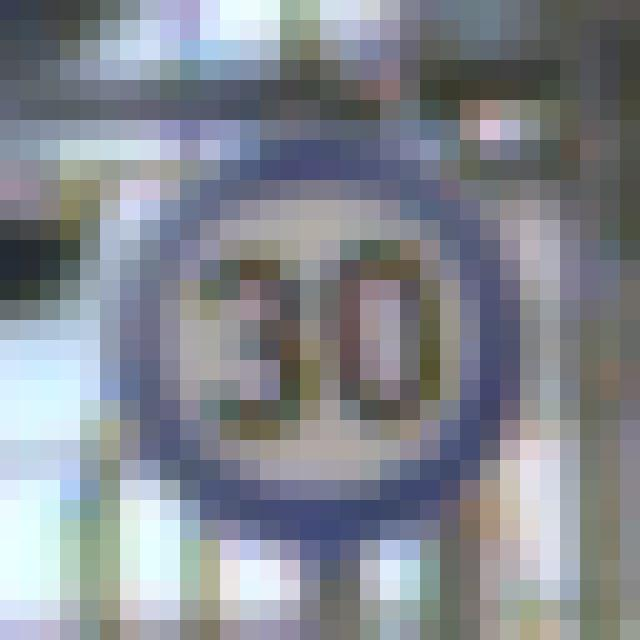SPEED LIMIT 30: (105, 138, 521, 542)
